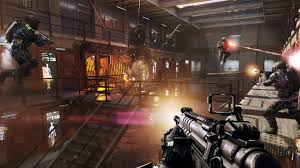gun: (172, 92, 283, 166)
